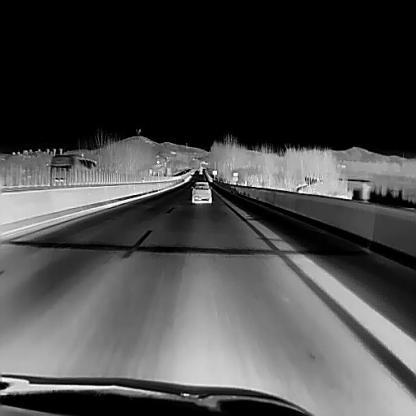car: (46, 153, 96, 186), (190, 181, 212, 204)
